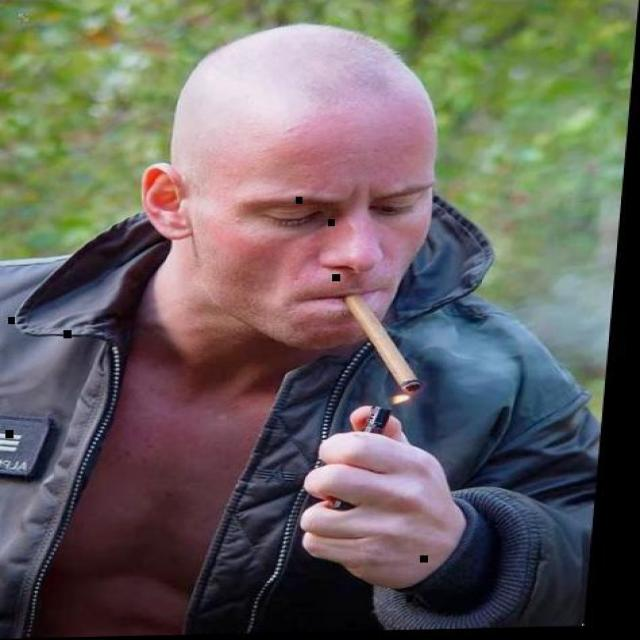cigarette: (337, 283, 443, 406)
